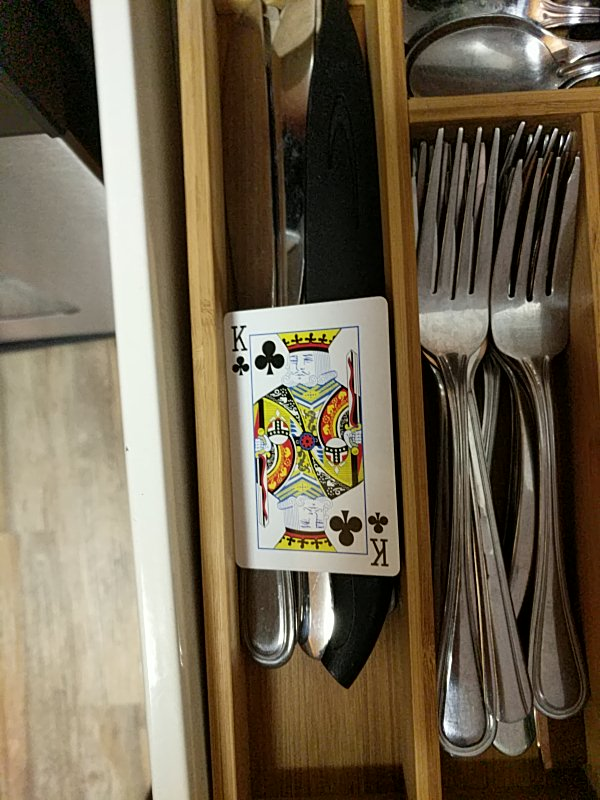Clubs: (222, 294, 402, 577)
